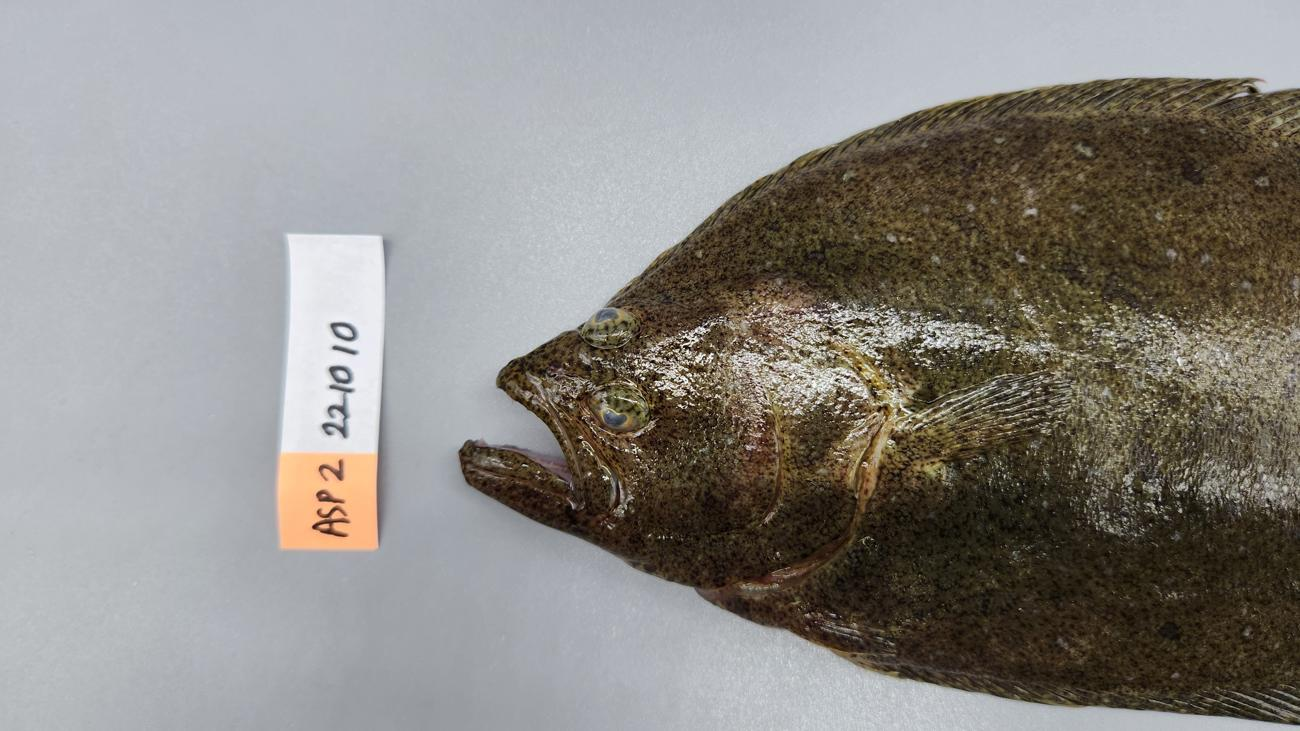SPDYH: (748, 517, 1299, 689)
